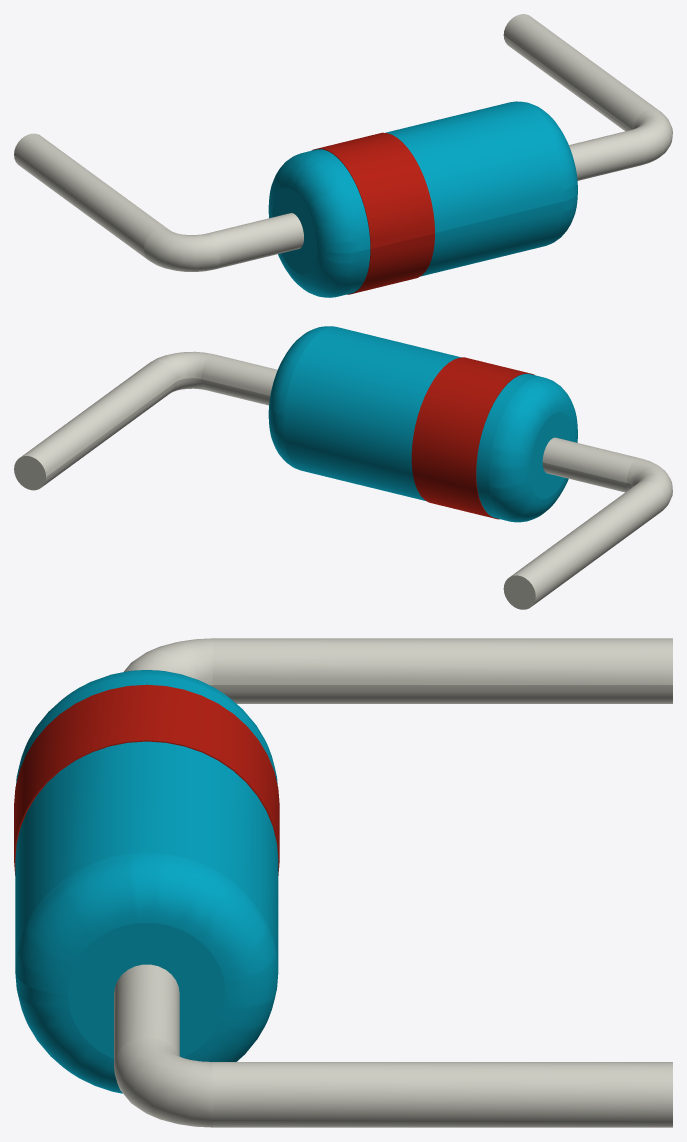
The model's file is D_DO-35_SOD27_P7.62mm_Horizontal.glb.
3 renders of one model, top to bottom at view 1: azimuth 30°, elevation 25°; view 2: azimuth 150°, elevation 25°; view 3: azimuth 270°, elevation 25°, orthographic. The views are drawn at different scales.
Visible parts, largest first — view 1: node (×2); view 2: node (×2); view 3: node (×2).
Part boxes in pixels (left/top/right/bottom): node (×2): left=14, top=14, right=672, bottom=297; node (×2): left=14, top=326, right=672, bottom=609; node (×2): left=14, top=638, right=672, bottom=1127.
Size of the model in its own units: 8.12 by 2.02 by 5.01.
